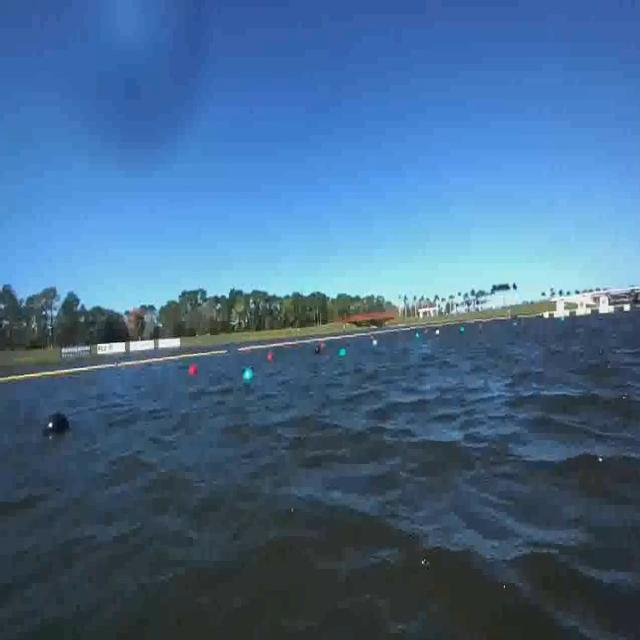black-buoy: (43, 412, 73, 437)
green-buoy: (241, 366, 252, 382)
red-buoy: (264, 347, 277, 363), (188, 363, 197, 376)
